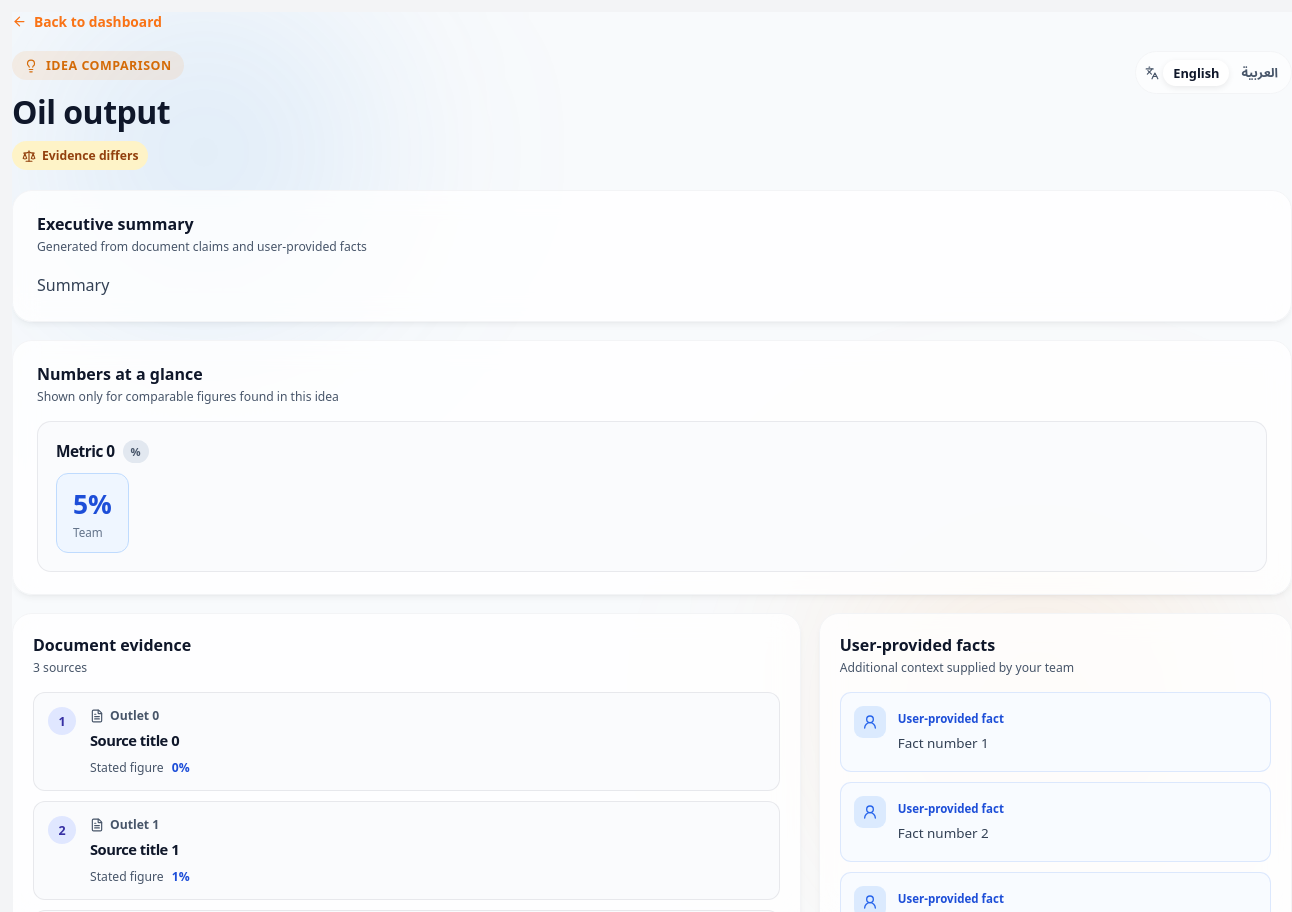
Test: IdeaComparisonDetailPage pagination › jumps to the page holding a user fact linked from the numbers section
Expected: the text "Fact number 1" is shown, x1=898 y1=734 x2=989 y2=752
Click the link "5% Team" at (92, 513), box x1=56 y1=473 x2=129 y2=553
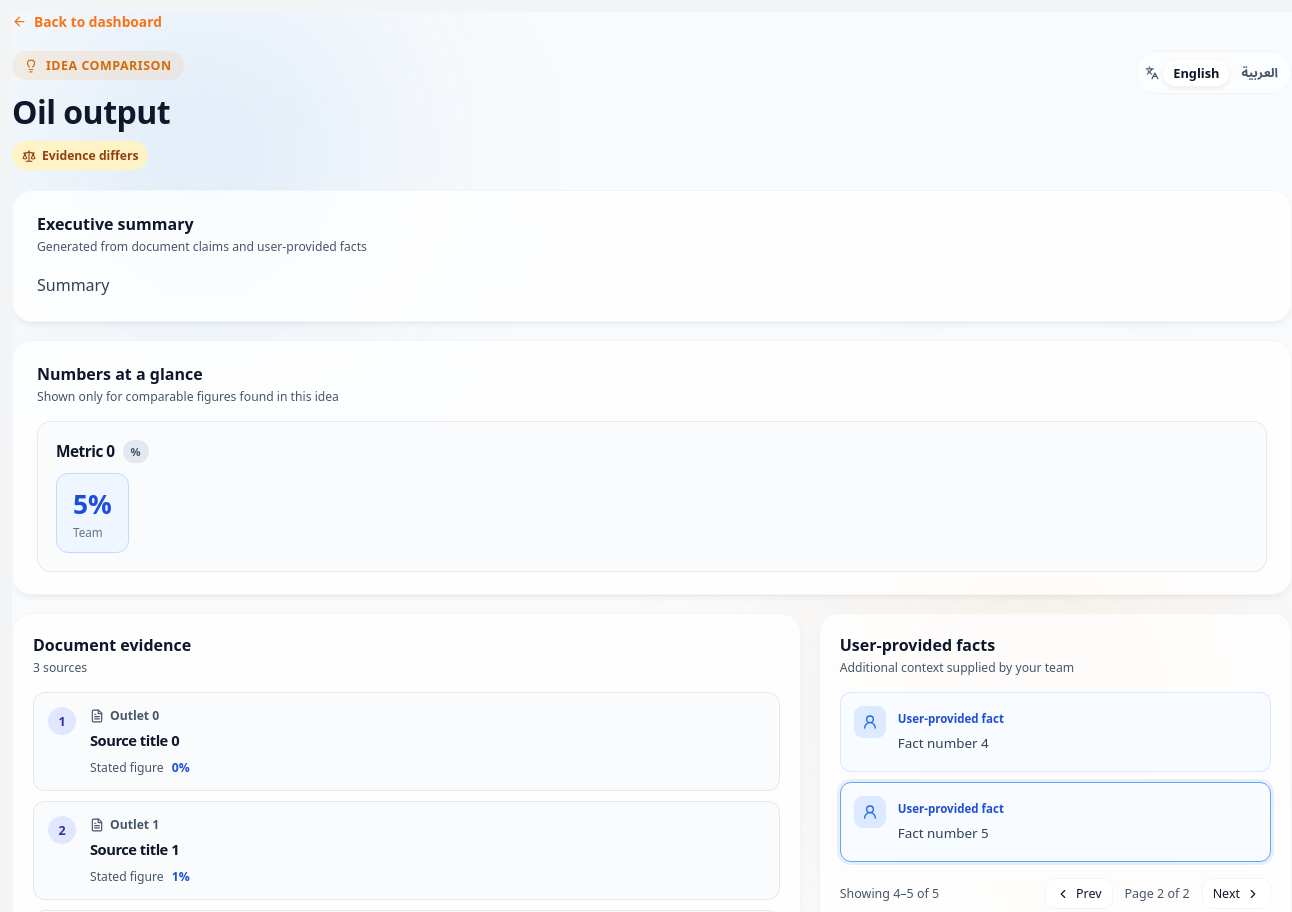
Expected: the element with id "user-fact-5" is shown, x1=840 y1=782 x2=1271 y2=862
Expected: the text "Page 2 of 2" is shown, x1=1125 y1=885 x2=1190 y2=902
